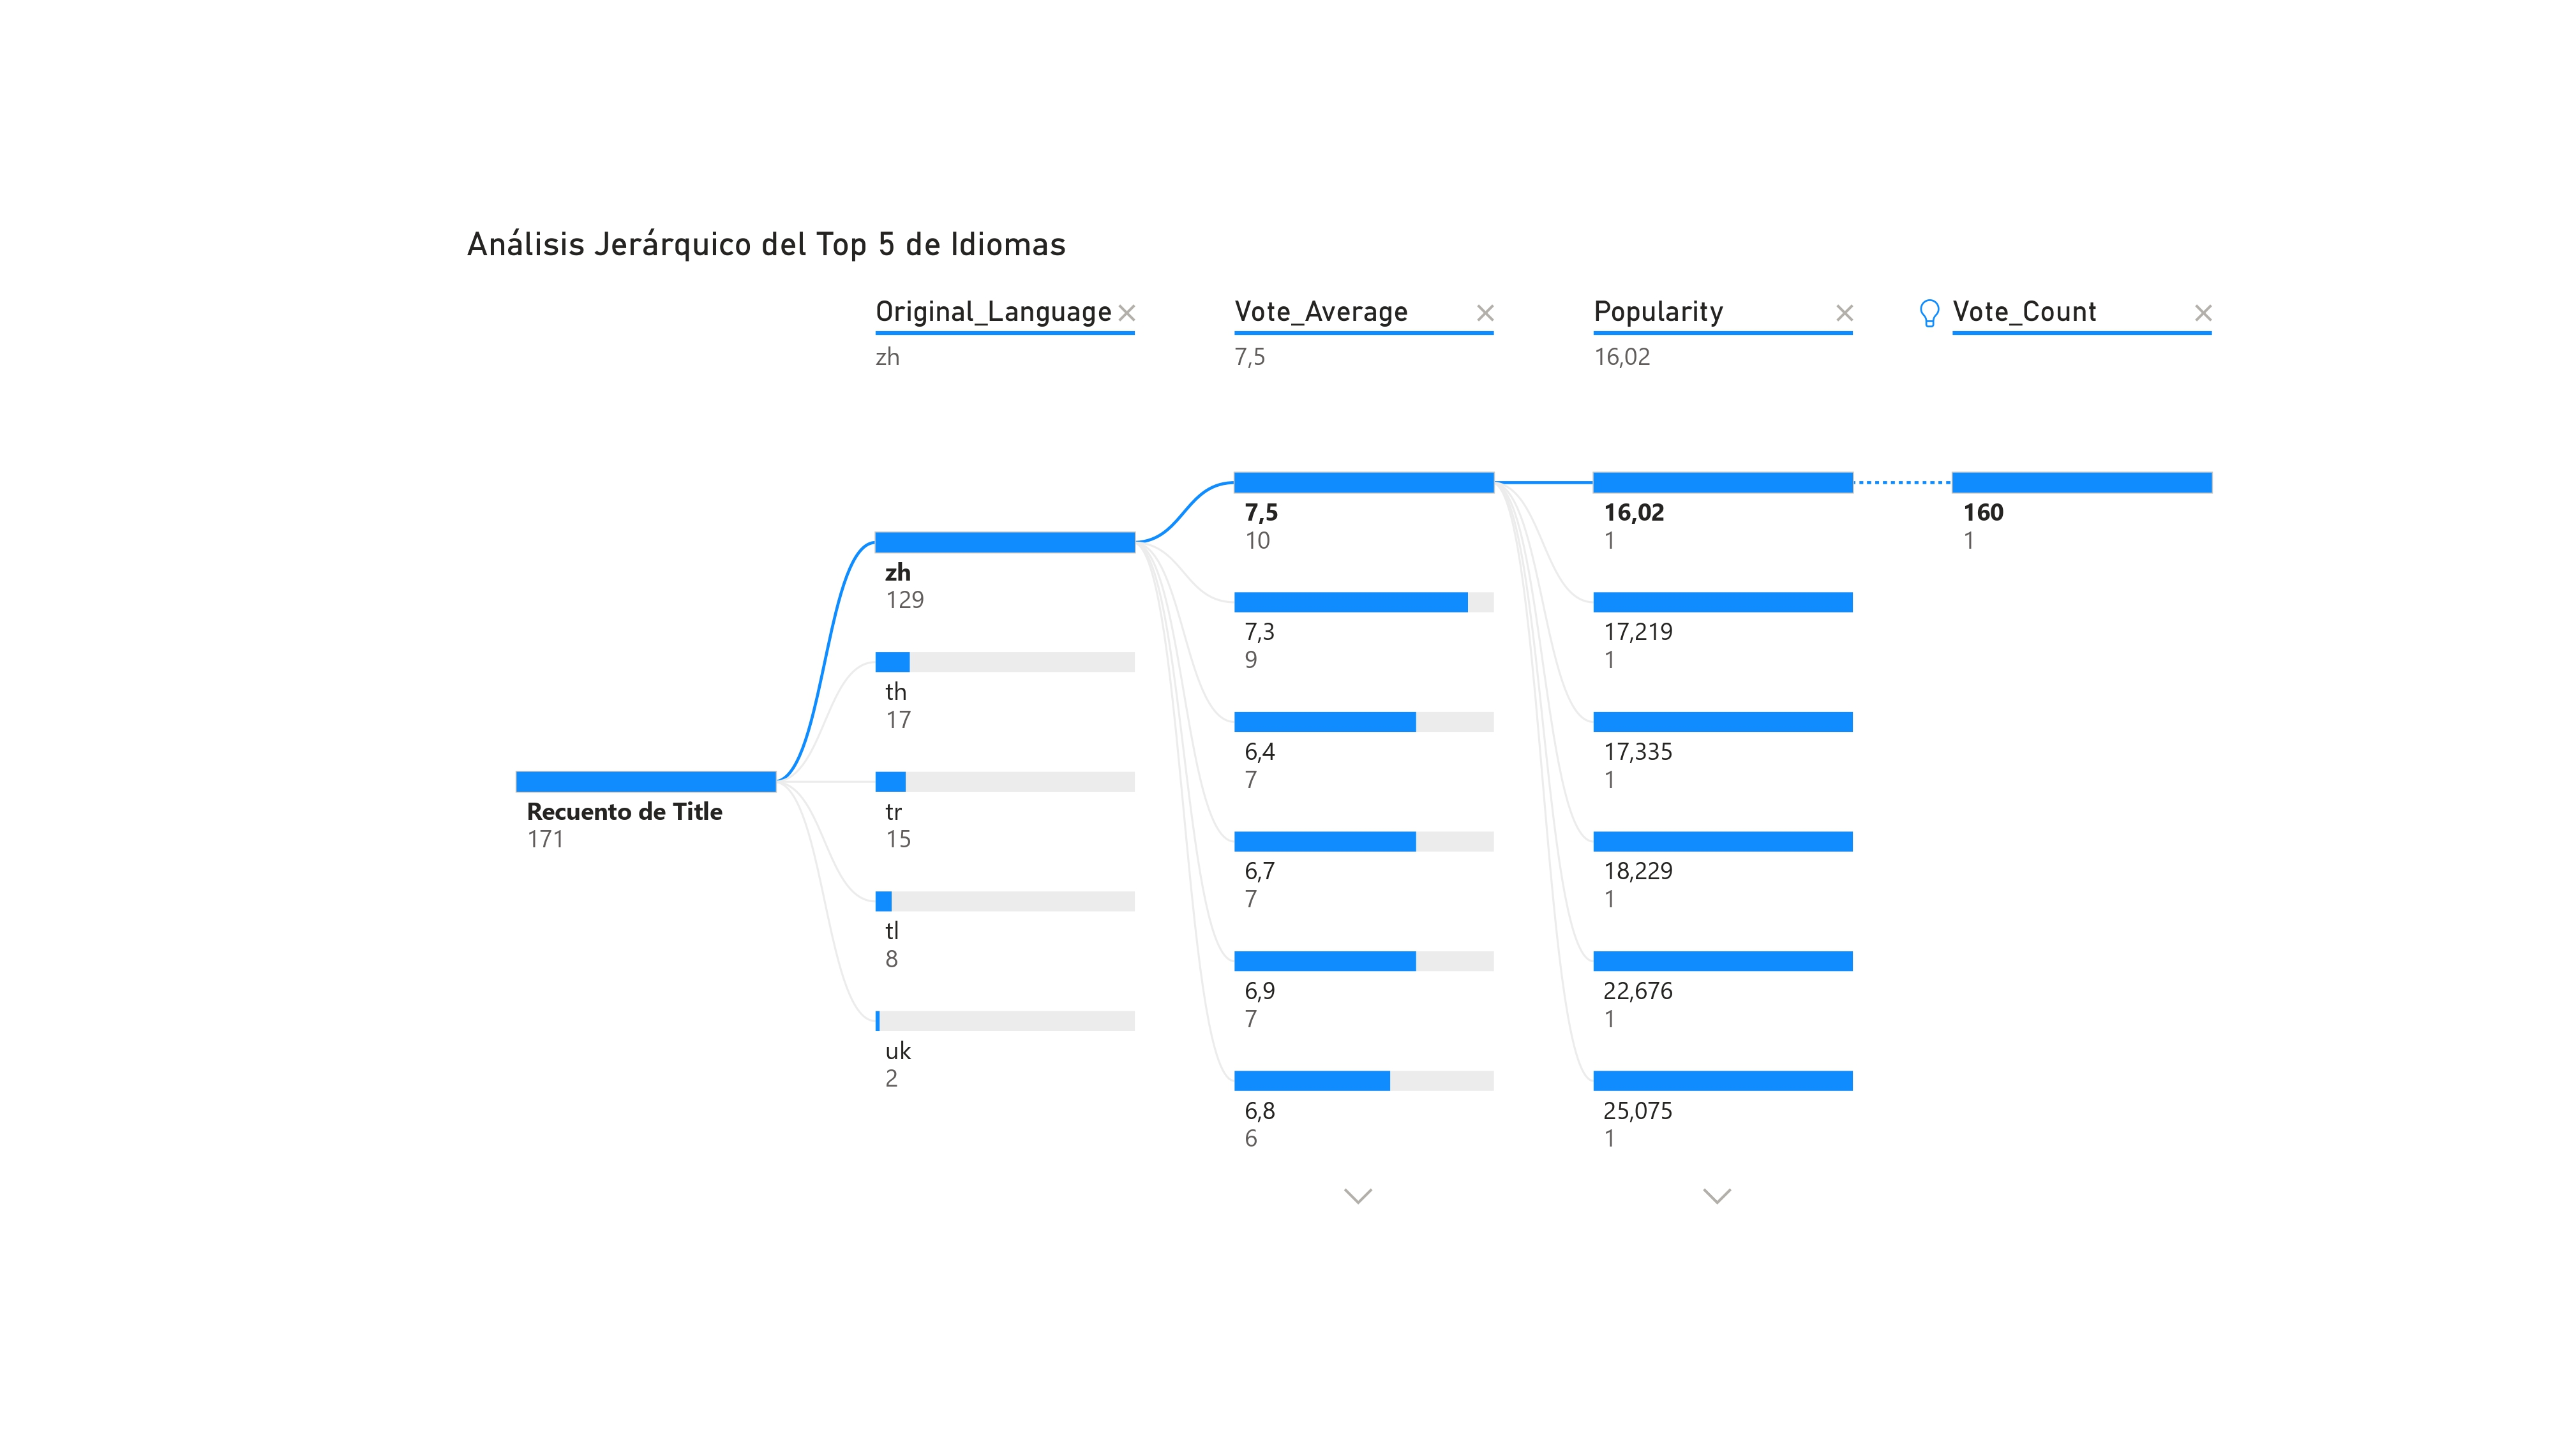

The dashboard page shown, as its layout file describes it:
{"tool":"powerbi","page":{"name":"Página 3","canvas":[1280,720],"ordinal":2},"visuals":[{"type":"decompositionTreeVisual","title":"Análisis Jerárquico del Top 5 de Idiomas","fields":{"ExplainBy":["mymoviedb_2.Original_Language","mymoviedb_2.Vote_Average","mymoviedb_2.Popularity","mymoviedb_2.Vote_Count"],"Analyze":["CountNonNull(mymoviedb_2.Title)"]},"box":[229,107,964,519],"z":0}]}

Visuals, with their boxes in screenshot pixels (x1, y1, x2, y2), scaled from the page's 1280x720 canvas onto the 2553x1456 screenshot:
"Análisis Jerárquico del Top 5 de Idiomas" decompositionTreeVisual: 457, 216, 2379, 1266
